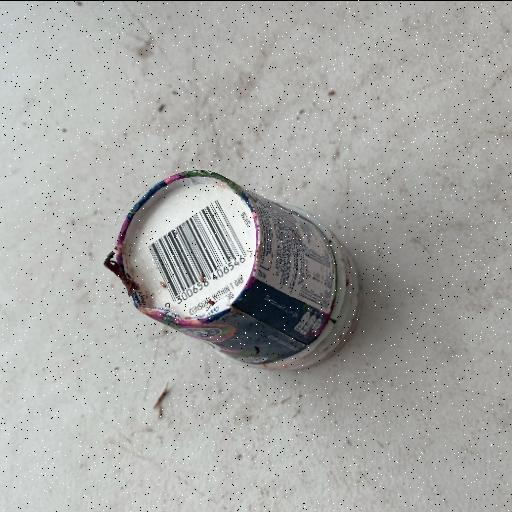Plastic: (102, 167, 364, 373)
